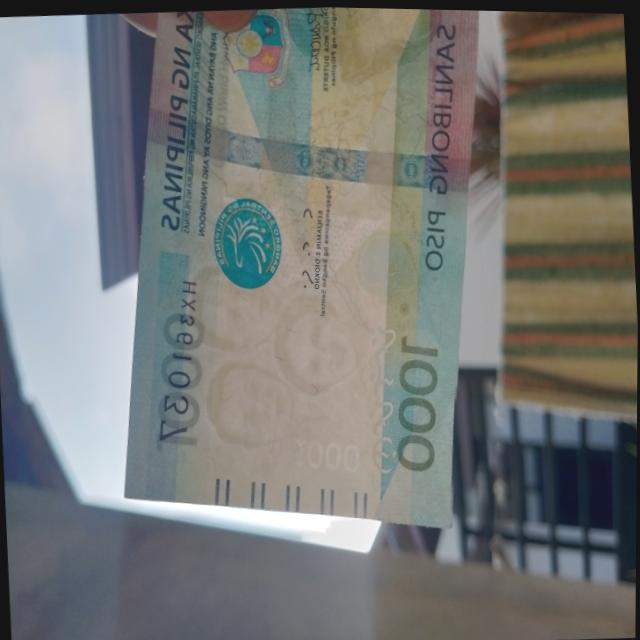security_thread: (143, 90, 474, 209)
see_through_mark: (355, 299, 410, 492)
serial_number: (146, 264, 206, 444)
watermark: (174, 238, 397, 450)
